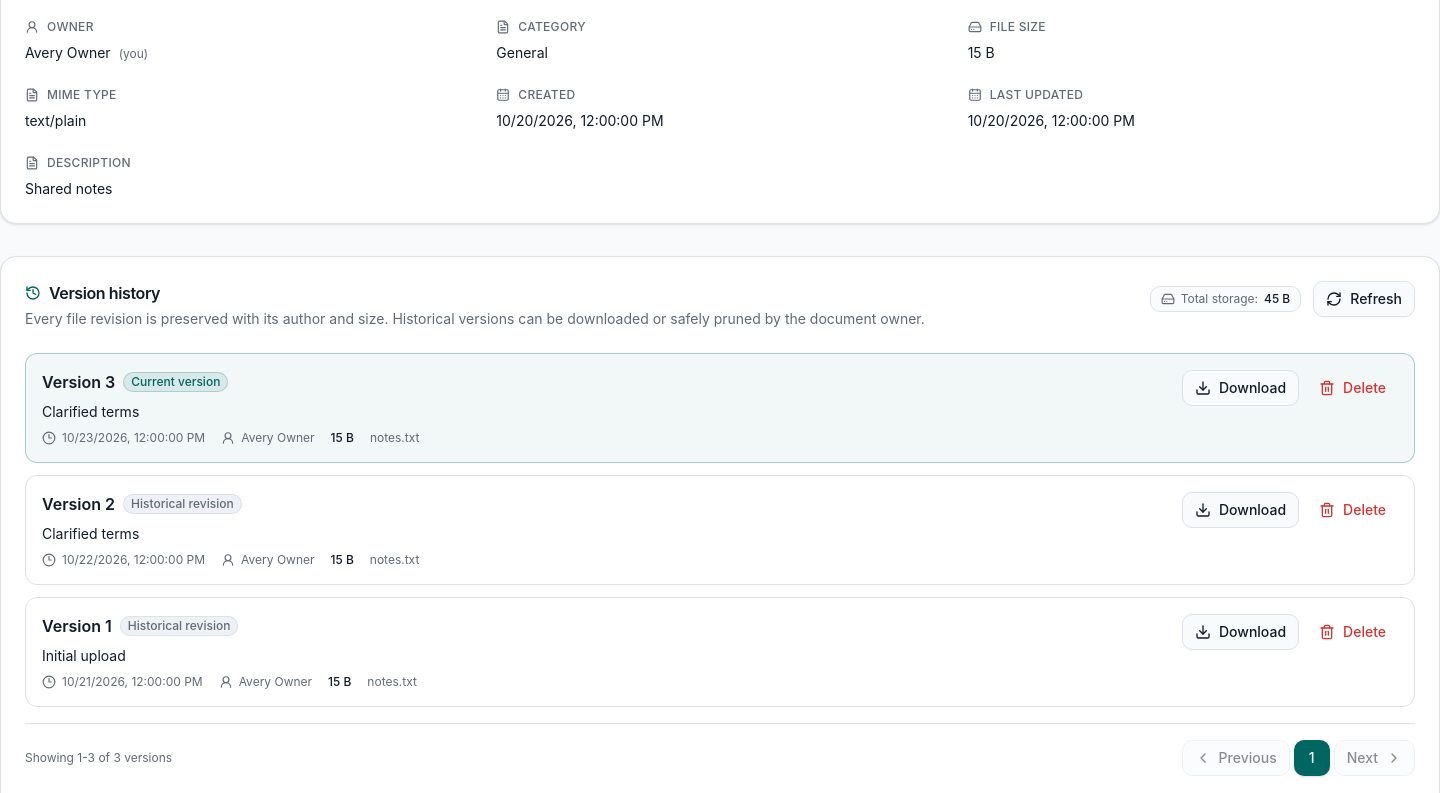
DocumentDetailsPage content workflows › deletes the current version only after confirming rollback
The width and height of the screenshot is (1440, 793).
(page scrolled)
Click the button with aria-label "Delete version 3" at (1353, 388), box top-left (1307, 370), bottom-right (1398, 406)
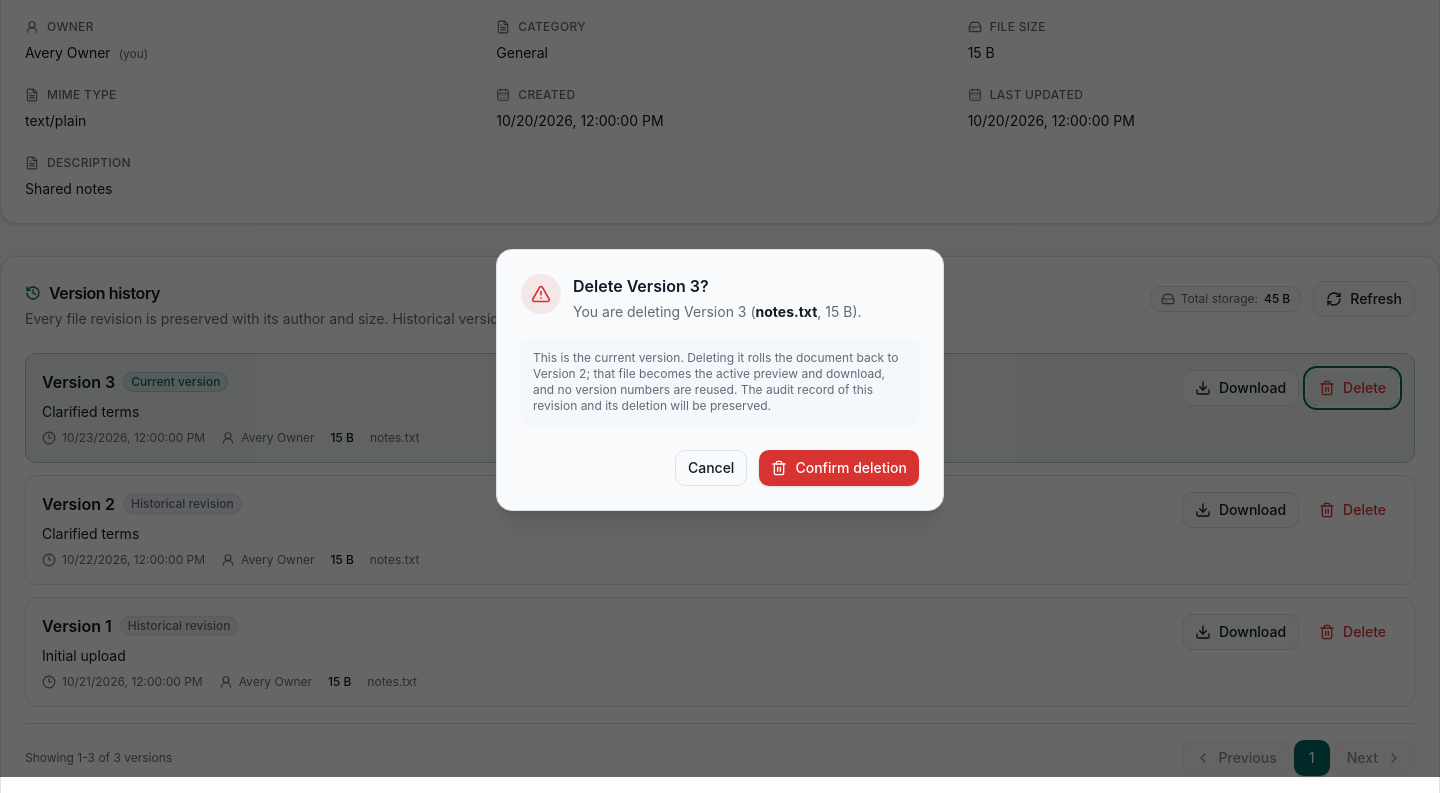
Check: the text "rolls the document back to Version 2" is shown, box top-left (533, 350), bottom-right (898, 397)
Click the button "Confirm deletion" at (839, 468), box top-left (759, 450), bottom-right (919, 486)
(page scrolled)
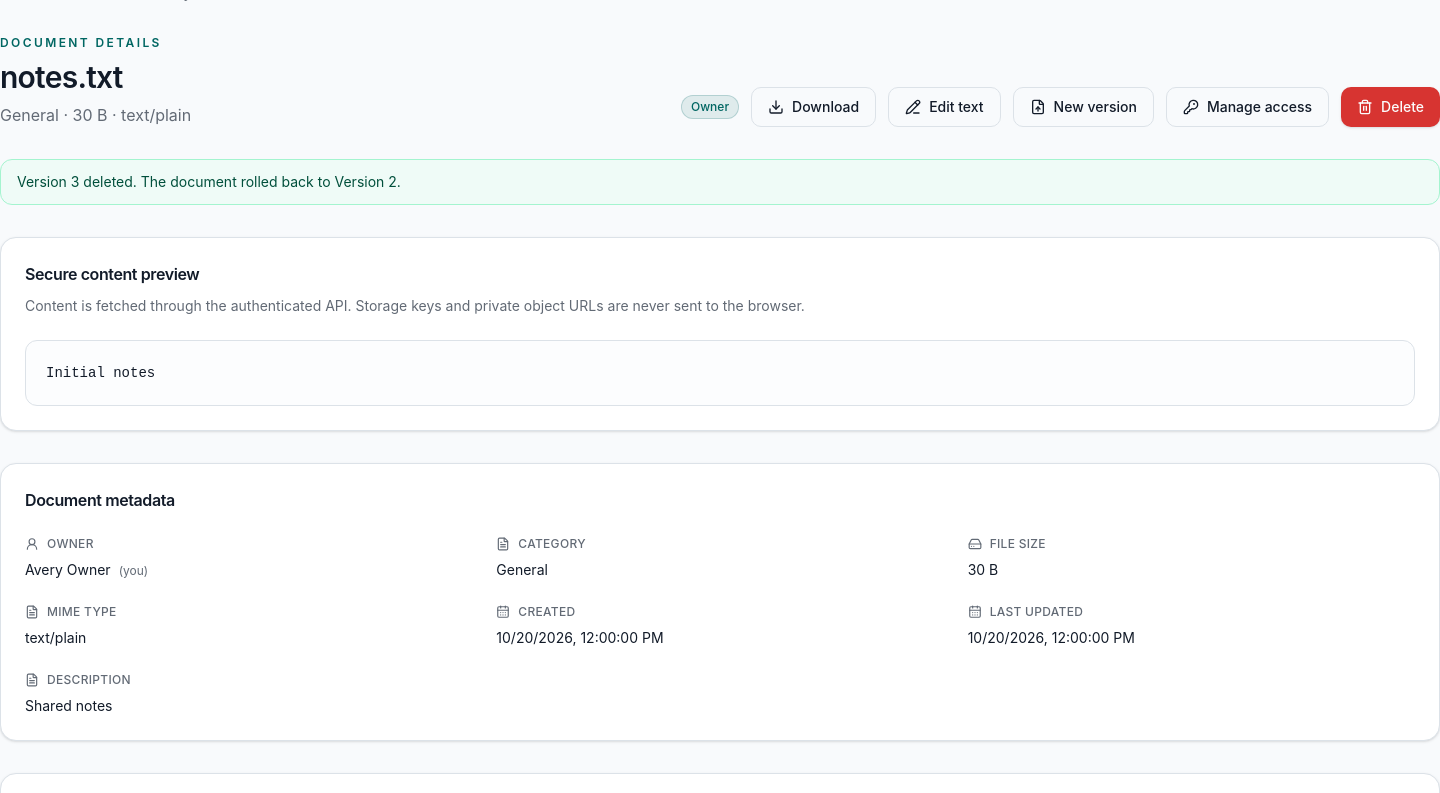
Check: the text "Version 3 deleted. The document rolled back to Version 2." is shown, box top-left (0, 159), bottom-right (1439, 205)
